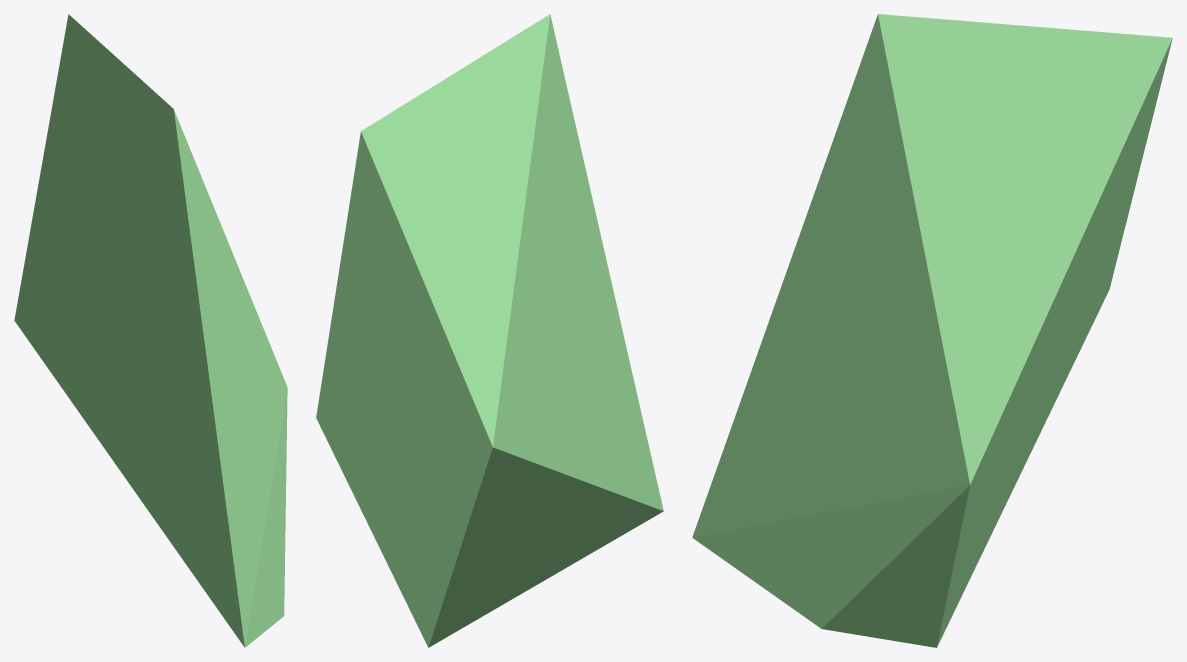
File: dvkr_robot_L3_sx_respondable_TOOL1_coll_11.dae
The picture shows the model from 3 angles, left to right: view 1: azimuth 30°, elevation 25°; view 2: azimuth 150°, elevation 25°; view 3: azimuth 270°, elevation 25°; orthographic projection. The views are drawn at different scales.
Visible parts, largest first — view 1: Node_0000023514CD9BB0; view 2: Node_0000023514CD9BB0; view 3: Node_0000023514CD9BB0.
Boxes of the visible parts, x1,y1,x2,y2 form: Node_0000023514CD9BB0: (14,14,287,647); Node_0000023514CD9BB0: (316,14,663,647); Node_0000023514CD9BB0: (692,14,1172,647).
Size of the model in its own units: 0.00103 by 0.00249 by 0.00183.
